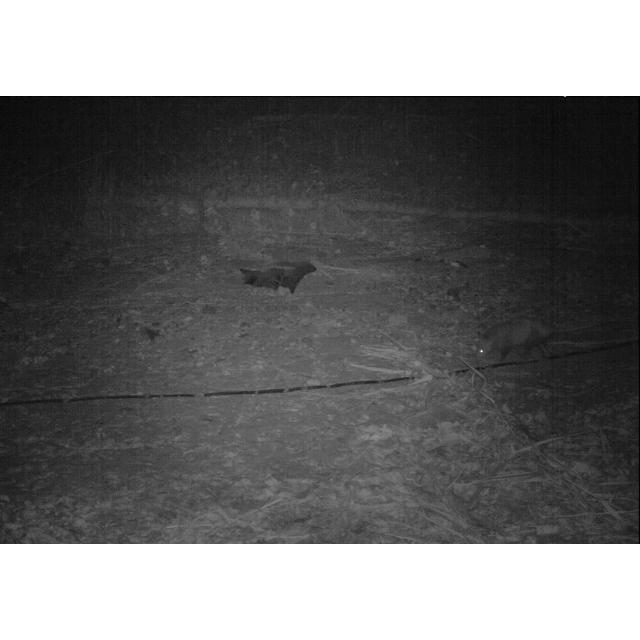animals: (472, 314, 600, 364)
